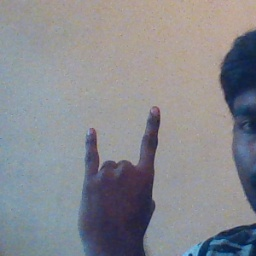V: (76, 103, 164, 253)
